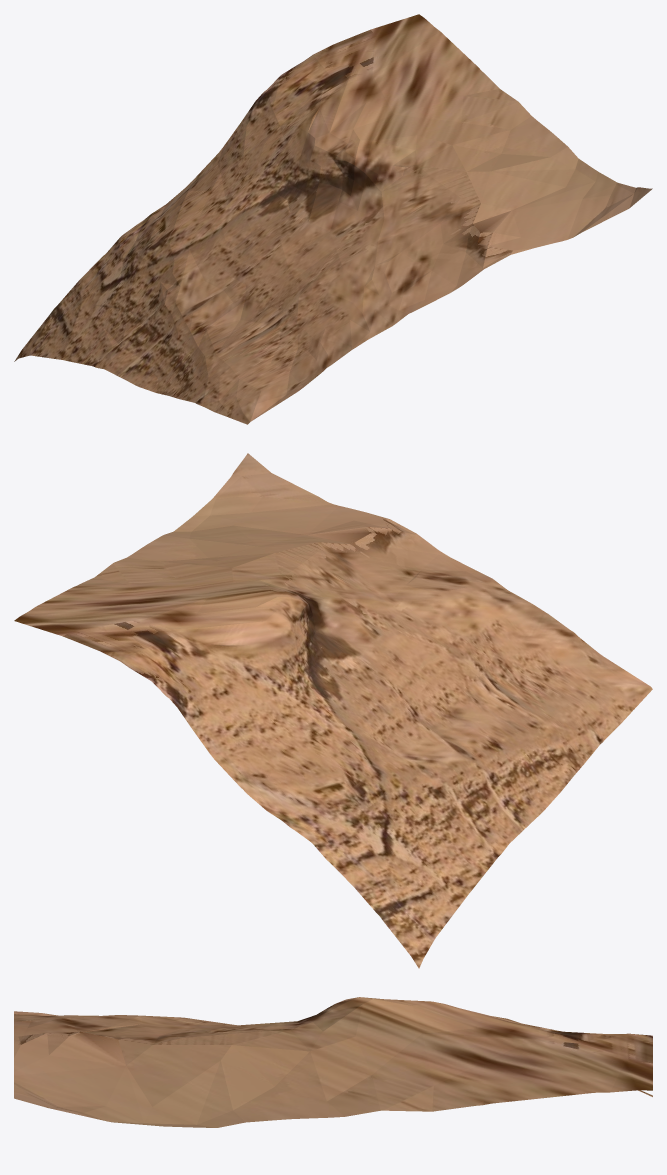
3 renders of one model, top to bottom at view 1: azimuth 30°, elevation 25°; view 2: azimuth 150°, elevation 25°; view 3: azimuth 270°, elevation 25°, orthographic. The views are drawn at different scales.
Size of the model in its own units: 1.04 by 0.6143 by 1.04.
Materials: 3 (3 with a texture image).
